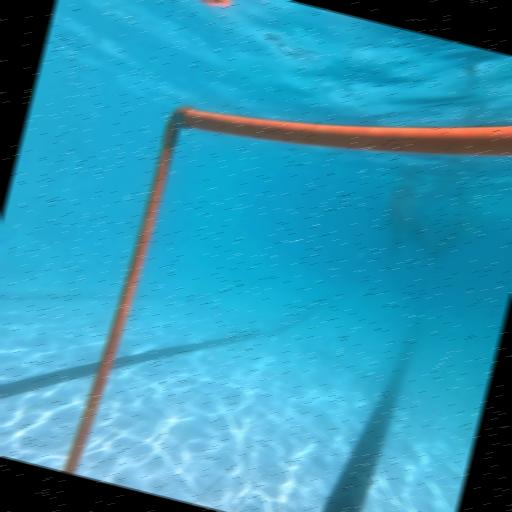gate: (60, 26, 512, 512)
